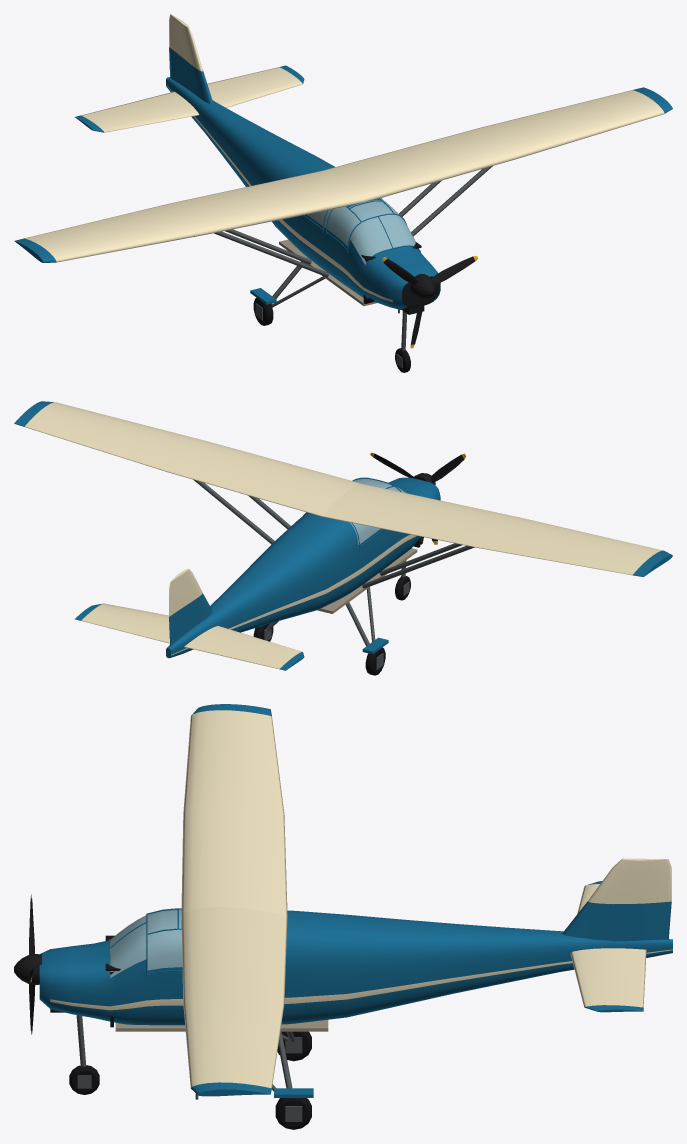
File: Kestrel.glb
3 renders of one model, top to bottom at view 1: azimuth 30°, elevation 25°; view 2: azimuth 150°, elevation 25°; view 3: azimuth 270°, elevation 25°, orthographic. The views are drawn at different scales.
Parts seen in each view (by area): view 1: Fuselage, WingL, WingR, Tail, Glass, Struts, Propeller, FloatR, Cabin; view 2: Fuselage, WingL, WingR, Tail, Struts, FloatR, Propeller, Cabin, Glass; view 3: Fuselage, WingR, WingL, Tail, Glass, FloatL, Cabin, Propeller, Struts, FloatR.
Part boxes in pixels (x1=…): Fuselage: x1=166, y1=77, x2=440, y2=314; WingL: x1=322, y1=87, x2=672, y2=201; WingR: x1=14, y1=171, x2=364, y2=262; Tail: x1=75, y1=14, x2=304, y2=132; Glass: x1=307, y1=198, x2=415, y2=264; Struts: x1=214, y1=166, x2=492, y2=372; Propeller: x1=381, y1=255, x2=477, y2=348; FloatR: x1=250, y1=261, x2=325, y2=325; Cabin: x1=279, y1=239, x2=421, y2=306; Fuselage: x1=166, y1=477, x2=440, y2=658; WingL: x1=14, y1=401, x2=362, y2=516; WingR: x1=322, y1=484, x2=672, y2=576; Tail: x1=75, y1=568, x2=304, y2=670; Struts: x1=193, y1=479, x2=474, y2=600; FloatR: x1=346, y1=587, x2=388, y2=675; Propeller: x1=370, y1=452, x2=466, y2=544; Cabin: x1=317, y1=538, x2=420, y2=613; Glass: x1=350, y1=478, x2=405, y2=544; Fuselage: x1=39, y1=908, x2=672, y2=1025; WingR: x1=181, y1=704, x2=287, y2=916; WingL: x1=181, y1=907, x2=287, y2=1096; Tail: x1=562, y1=858, x2=671, y2=1012; Glass: x1=110, y1=909, x2=182, y2=977; FloatL: x1=272, y1=1031, x2=313, y2=1129; Cabin: x1=105, y1=935, x2=328, y2=1031; Propeller: x1=14, y1=894, x2=41, y2=1034; Struts: x1=69, y1=1015, x2=198, y2=1099; FloatR: x1=277, y1=1031, x2=311, y2=1061.
Size of the model in its own units: 14.6 by 4.15 by 10.55.
